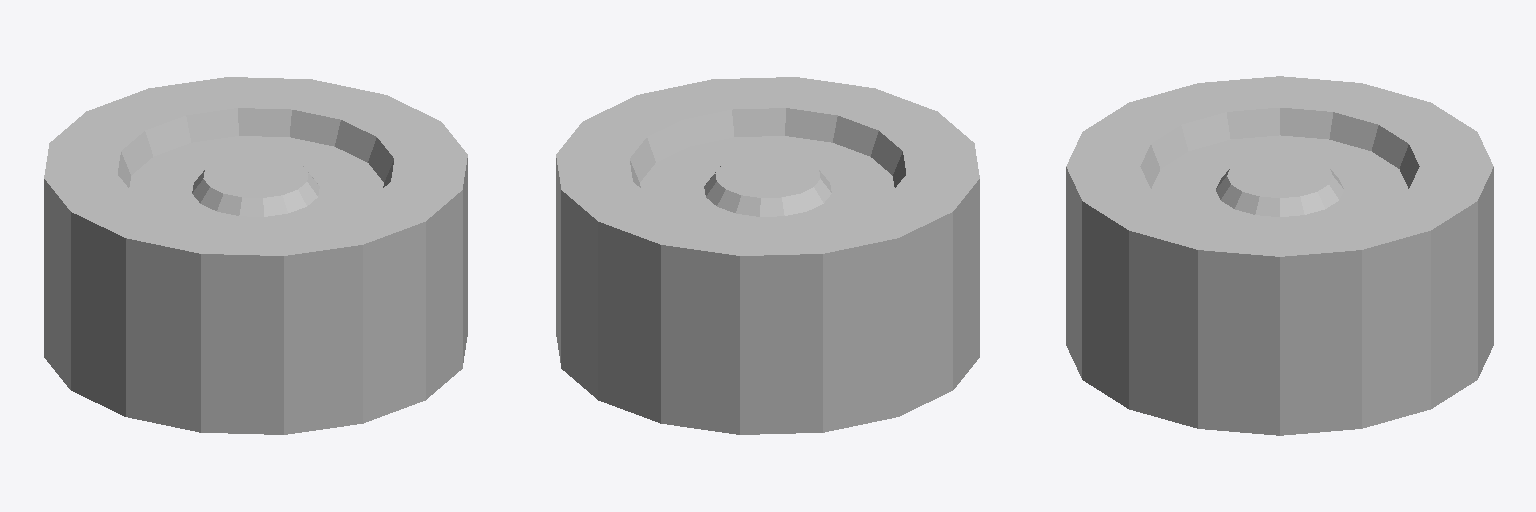
The model's file is igs_truck_small_wheel.obj.
3 views of the same model, side by side, from view 1: azimuth 30°, elevation 25°; view 2: azimuth 150°, elevation 25°; view 3: azimuth 270°, elevation 25° (orthographic).
Size of the model in its own units: 0.065 by 0.03 by 0.065.